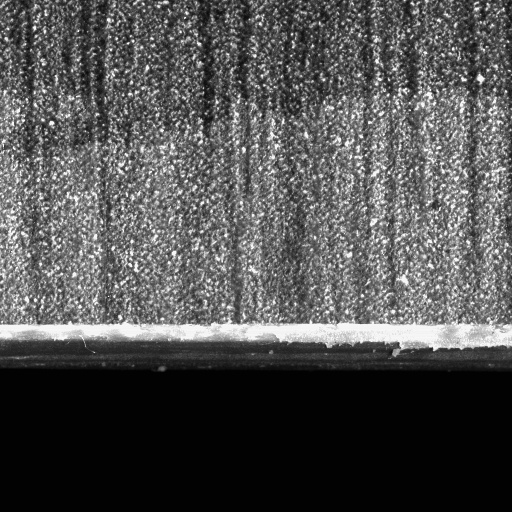kaijiao: (0, 320, 511, 377)
